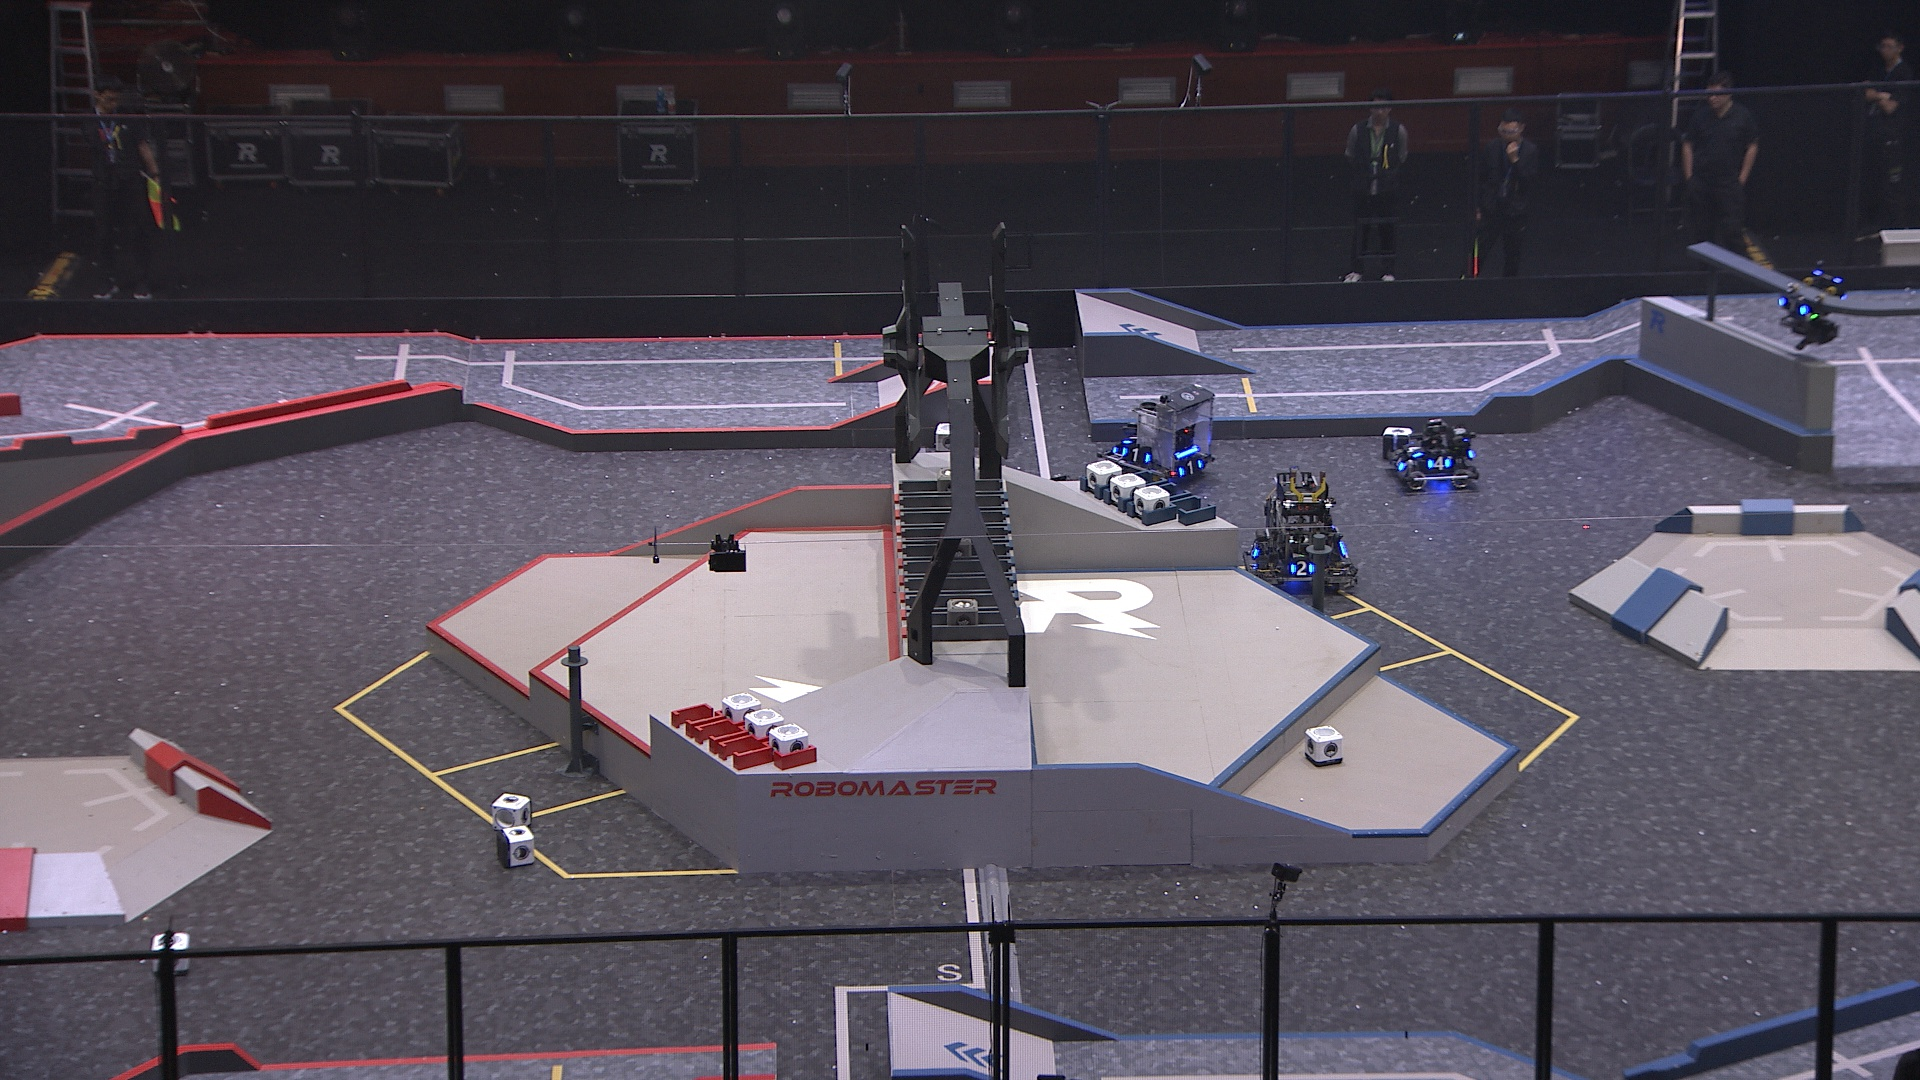armor: (1774, 290, 1812, 319), (1116, 443, 1155, 469), (1178, 455, 1209, 481), (1284, 556, 1319, 579), (1424, 452, 1456, 473), (1404, 439, 1425, 462), (1391, 450, 1410, 472), (1122, 429, 1141, 450), (1247, 538, 1262, 559)
car: (1244, 469, 1361, 591), (1096, 385, 1218, 484), (1385, 417, 1481, 491)
watcher: (1774, 258, 1849, 349)
